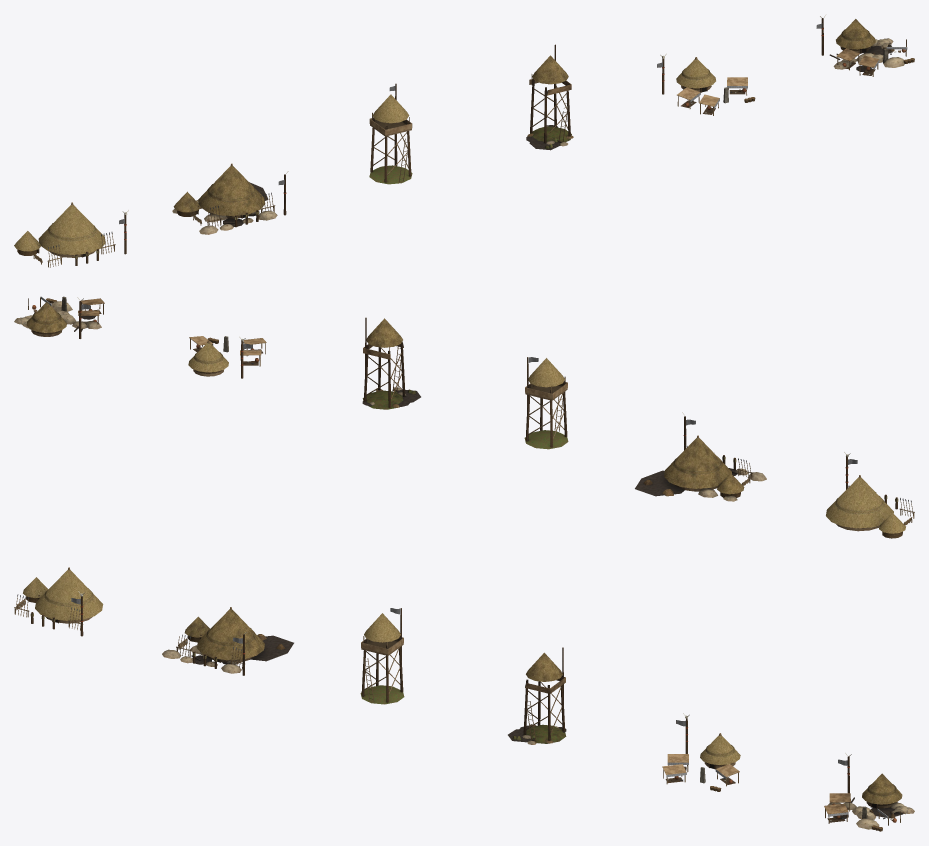
File: rts-stone-europe.glb
The picture shows the model from 3 angles, top to bottom: view 1: azimuth 30°, elevation 25°; view 2: azimuth 150°, elevation 25°; view 3: azimuth 330°, elevation 25°; orthographic projection.
Visible parts, largest first — view 1: LOD0.001, LOD0, LOD0.002, LOD0.005, LOD0.003, LOD0.004; view 2: LOD0.001, LOD0, LOD0.002, LOD0.003, LOD0.005, LOD0.004; view 3: LOD0.001, LOD0, LOD0.005, LOD0.002, LOD0.003, LOD0.004.
Part boxes in pixels (<box>): LOD0.001: <box>172,163,288,234</box>; LOD0: <box>14,202,128,267</box>; LOD0.002: <box>369,83,412,184</box>; LOD0.005: <box>816,14,914,76</box>; LOD0.003: <box>526,44,573,150</box>; LOD0.004: <box>657,53,755,115</box>; LOD0.001: <box>635,412,766,501</box>; LOD0: <box>826,452,914,538</box>; LOD0.002: <box>524,357,568,449</box>; LOD0.003: <box>362,317,420,409</box>; LOD0.005: <box>14,296,104,338</box>; LOD0.004: <box>188,336,266,378</box>; LOD0.001: <box>162,607,293,675</box>; LOD0: <box>14,567,103,636</box>; LOD0.005: <box>824,753,914,831</box>; LOD0.002: <box>360,608,404,704</box>; LOD0.003: <box>508,647,566,744</box>; LOD0.004: <box>662,713,740,791</box>.
Size of what is drawn, in the model's own units: 16.5 by 1.5 by 1.75.
2 materials, 2 textured.
